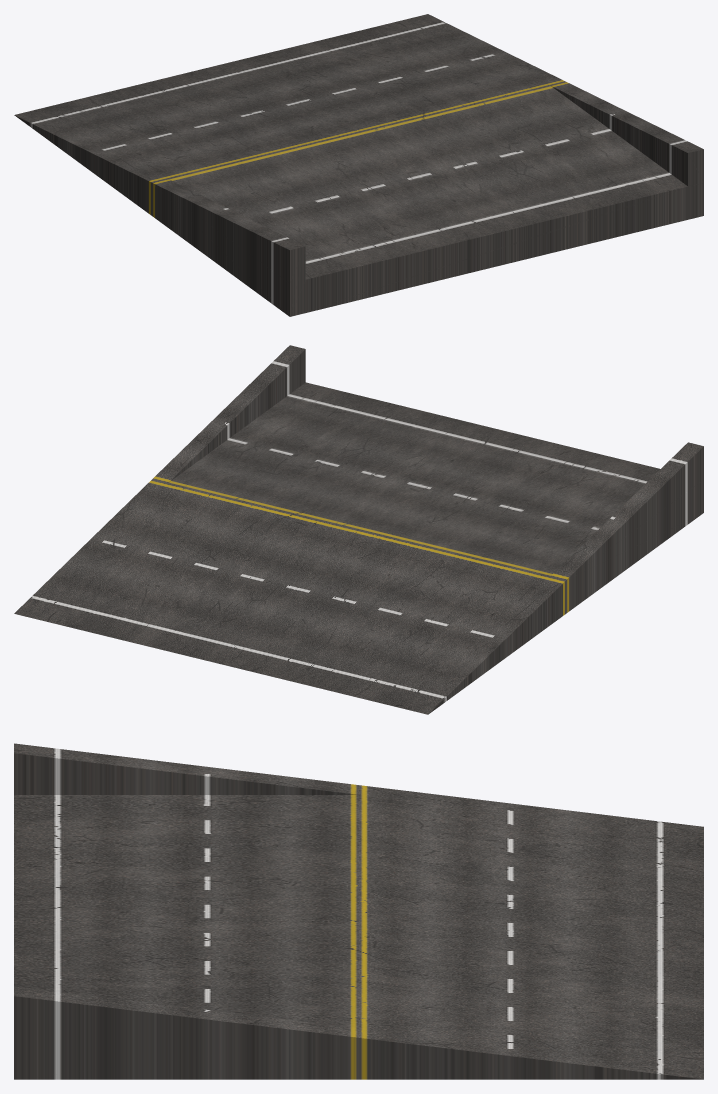
The model's file is trackofframp.fbx.
The picture shows the model from 3 angles, top to bottom: view 1: azimuth 30°, elevation 25°; view 2: azimuth 150°, elevation 25°; view 3: azimuth 270°, elevation 25°; orthographic projection. The views are drawn at different scales.
Visible parts, largest first — view 1: TrackOfframp; view 2: TrackOfframp; view 3: TrackOfframp.
Boxes of the visible parts, box(x1,y1,x2,y2) form: TrackOfframp: box(14, 14, 703, 316); TrackOfframp: box(14, 345, 703, 714); TrackOfframp: box(14, 743, 703, 1079).
Bounding box in the file's own units: 260 × 40 × 300.
